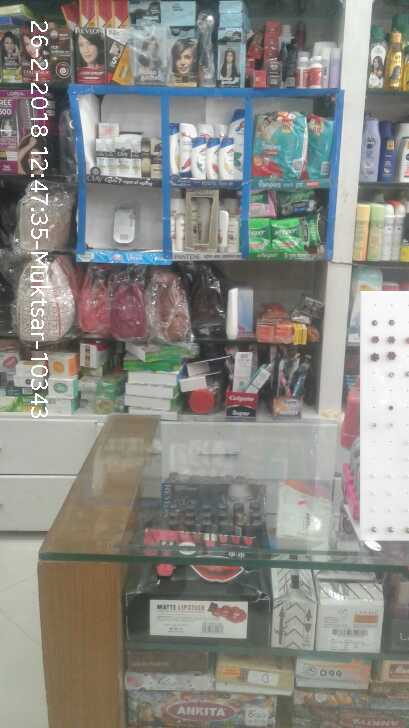venus: (113, 202, 139, 246)
